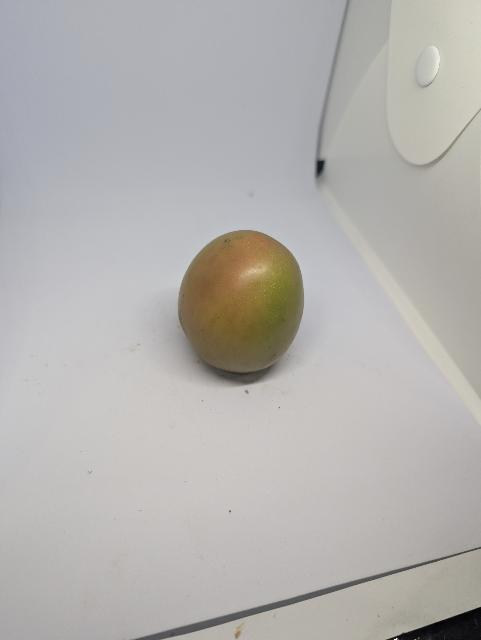breaker: (179, 230, 304, 373)
